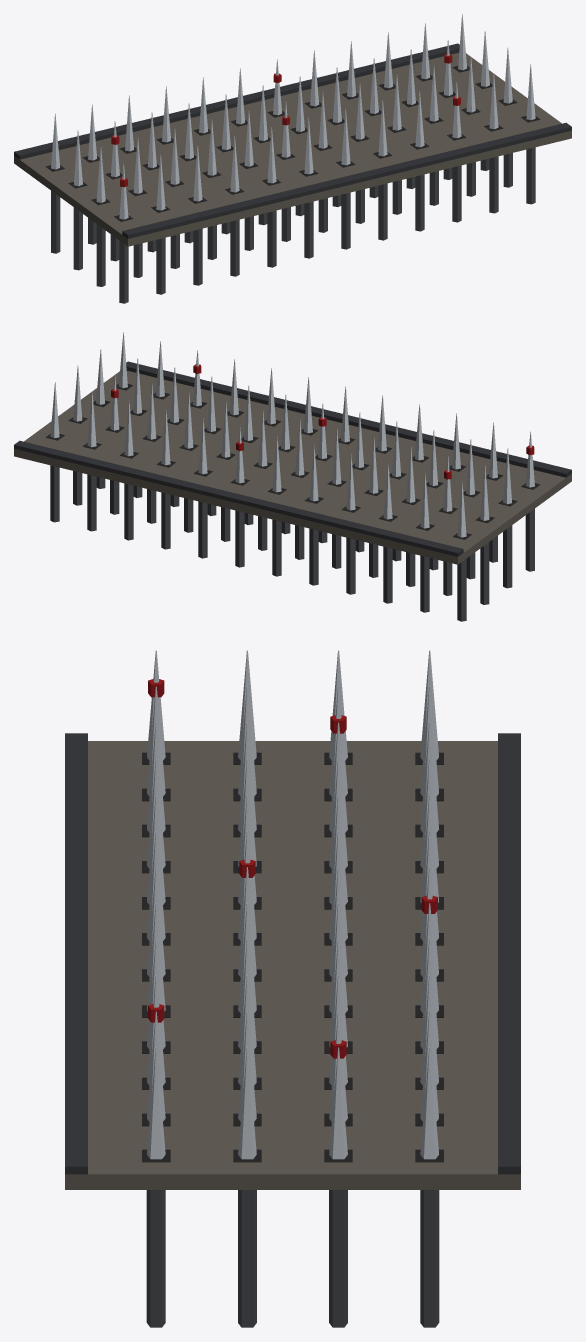
Rendered from SM_Trap_Spuntoni.glb.
3 renders of one model, top to bottom at view 1: azimuth 30°, elevation 25°; view 2: azimuth 150°, elevation 25°; view 3: azimuth 270°, elevation 25°, orthographic. The views are drawn at different scales.
Visible parts, largest first — view 1: SM_Trap_Spuntoni, Spikes; view 2: SM_Trap_Spuntoni, Spikes; view 3: SM_Trap_Spuntoni, Spikes.
Boxes of the visible parts, bbox=[...] form: SM_Trap_Spuntoni: bbox=[14, 43, 571, 246]; Spikes: bbox=[51, 14, 535, 303]; SM_Trap_Spuntoni: bbox=[14, 361, 571, 564]; Spikes: bbox=[50, 332, 534, 621]; SM_Trap_Spuntoni: bbox=[65, 733, 520, 1189]; Spikes: bbox=[146, 650, 439, 1327].
Bounding box in the file's own units: 3.6 × 1.07 × 1.6.
Materials: 1 (1 with a texture image).
